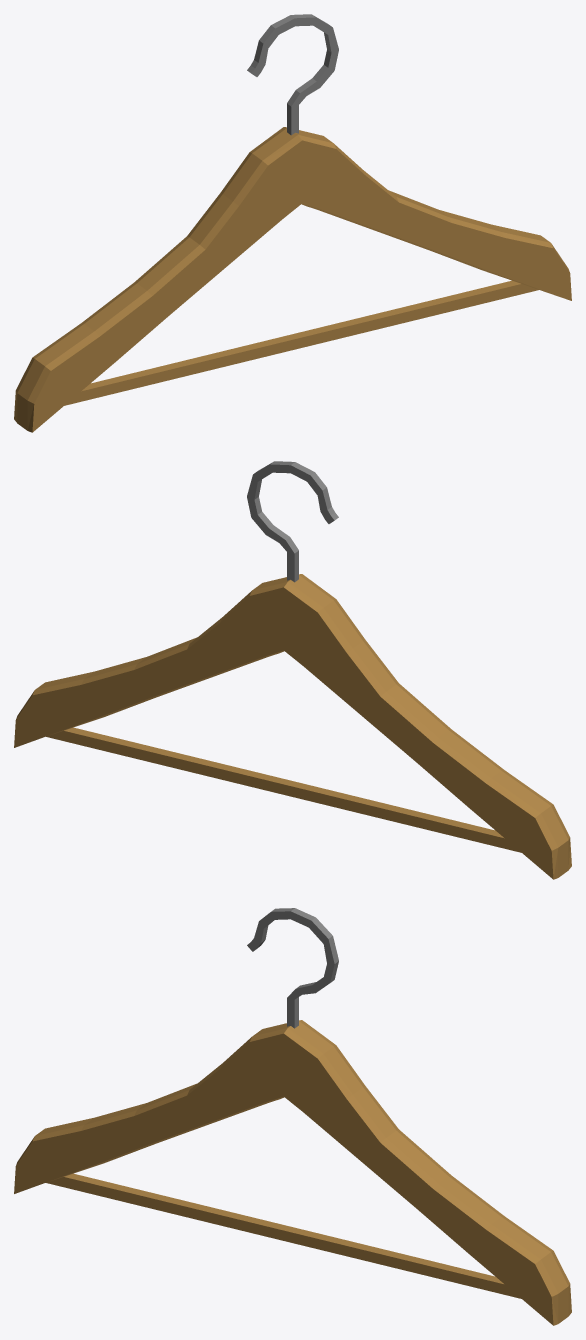
The model's file is ClosetHanger.glb.
3 views of the same model, one above another, from view 1: azimuth 30°, elevation 25°; view 2: azimuth 150°, elevation 25°; view 3: azimuth 330°, elevation 25° (orthographic).
Visible parts, largest first — view 1: Node; view 2: Node; view 3: Node.
Boxes of the visible parts, x1,y1,x2,y2 form: Node: (14,14,571,432); Node: (14,461,571,879); Node: (14,908,571,1325).
Bounding box in the file's own units: 4.39 × 2.67 × 0.2596.
